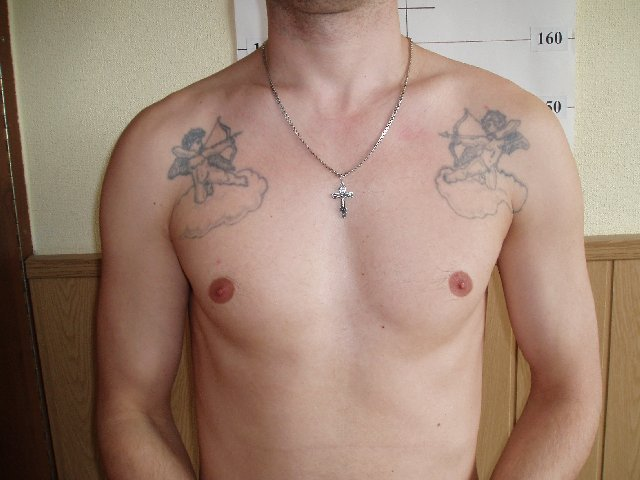tatu1_angel: (160, 115, 280, 238), (433, 101, 533, 222)
